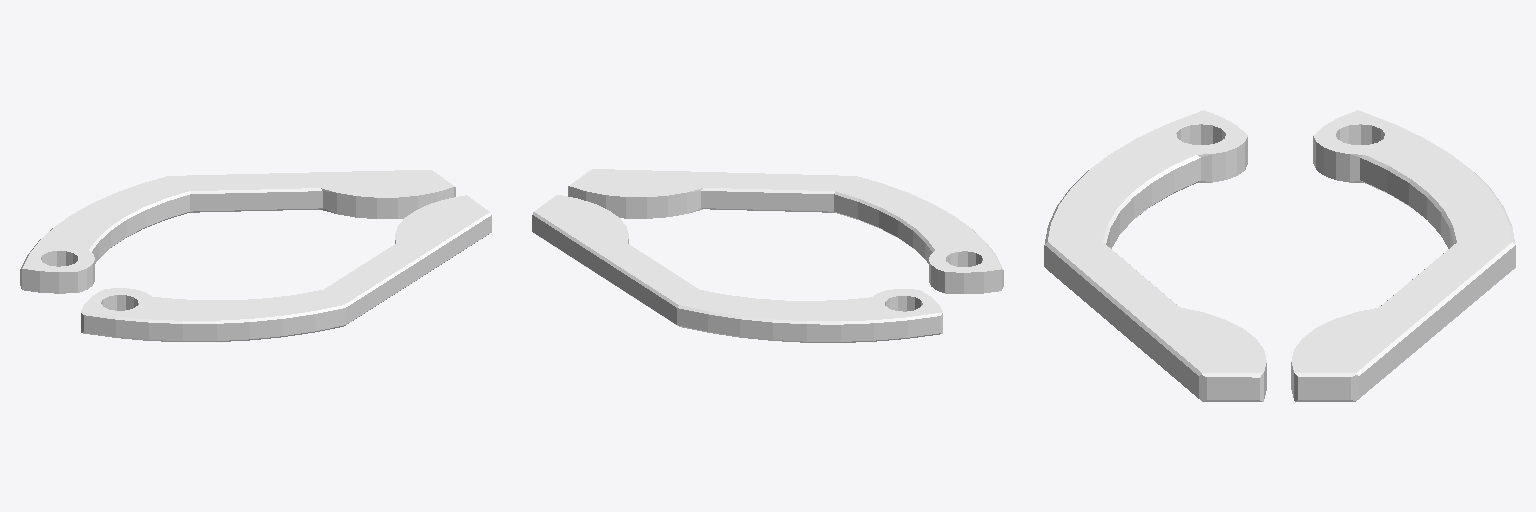
robot.urdf — BRAZO_ROBOT_URDF:
<?xml version="1.0" encoding="utf-8"?>
<!-- This URDF was automatically created by SolidWorks to URDF Exporter! Originally created by [author] ([email redacted]) 
     Commit Version: 1.6.0-4-g7f85cfe  Build Version: 1.6.7995.38578
     For more information, please see http://wiki.ros.org/sw_urdf_exporter -->
<robot
  name="BRAZO_ROBOT_URDF">
  <link
    name="eslabon base">
    <inertial>
      <origin
        xyz="-0.0088229 -6.9389E-18 0.026922"
        rpy="0 0 0" />
      <mass
        value="0.33529" />
      <inertia
        ixx="0.00030188"
        ixy="-2.3722E-20"
        ixz="1.5248E-05"
        iyy="0.00046509"
        iyz="-1.7862E-20"
        izz="0.00053687" />
    </inertial>
    <visual>
      <origin
        xyz="0 0 0"
        rpy="0 0 0" />
      <geometry>
        <mesh
          filename="package://BRAZO_ROBOT_URDF/meshes/eslabon base.STL" />
      </geometry>
      <material
        name="">
        <color
          rgba="1 1 1 1" />
      </material>
    </visual>
    <collision>
      <origin
        xyz="0 0 0"
        rpy="0 0 0" />
      <geometry>
        <mesh
          filename="package://BRAZO_ROBOT_URDF/meshes/eslabon base.STL" />
      </geometry>
    </collision>
  </link>
  <link
    name="ESLABON ROTACION">
    <inertial>
      <origin
        xyz="1.38777878078145E-17 0 0.0630288606936914"
        rpy="0 0 0" />
      <mass
        value="0.00792631563306555" />
      <inertia
        ixx="9.54333718723177E-07"
        ixy="-1.48793855574928E-23"
        ixz="3.26354663080921E-23"
        iyy="9.71075618241566E-07"
        iyz="-2.63461630643741E-23"
        izz="7.97669672938977E-07" />
    </inertial>
    <visual>
      <origin
        xyz="0 0 0"
        rpy="0 0 0" />
      <geometry>
        <mesh
          filename="package://BRAZO_ROBOT_URDF/meshes/ESLABON ROTACION.STL" />
      </geometry>
      <material
        name="">
        <color
          rgba="1 1 1 1" />
      </material>
    </visual>
    <collision>
      <origin
        xyz="0 0 0"
        rpy="0 0 0" />
      <geometry>
        <mesh
          filename="package://BRAZO_ROBOT_URDF/meshes/ESLABON ROTACION.STL" />
      </geometry>
    </collision>
  </link>
  <joint
    name="ESLABON ROTACION"
    type="revolute">
    <origin
      xyz="0 0 0"
      rpy="0 0 0" />
    <parent
      link="eslabon base" />
    <child
      link="ESLABON ROTACION" />
    <axis
      xyz="0 0 -1" />
    <limit
      lower="-1.5708"
      upper="1.5708"
      effort="0.18"
      velocity="10.472" />
    <dynamics
      damping="0"
      friction="0" />
  </joint>
  <link
    name="ESLABON DE BRAZO 1">
    <inertial>
      <origin
        xyz="-0.000966415503477563 -0.0190572854817526 0.00105821743021271"
        rpy="0 0 0" />
      <mass
        value="0.0485744385999758" />
      <inertia
        ixx="1.8593970179839E-05"
        ixy="-5.25312085428344E-07"
        ixz="-1.31826405070508E-07"
        iyy="3.2725311613632E-06"
        iyz="1.54876095792427E-06"
        izz="1.9702766411215E-05" />
    </inertial>
    <visual>
      <origin
        xyz="0 0 0"
        rpy="0 0 0" />
      <geometry>
        <mesh
          filename="package://BRAZO_ROBOT_URDF/meshes/ESLABON DE BRAZO 1.STL" />
      </geometry>
      <material
        name="">
        <color
          rgba="1 1 1 1" />
      </material>
    </visual>
    <collision>
      <origin
        xyz="0 0 0"
        rpy="0 0 0" />
      <geometry>
        <mesh
          filename="package://BRAZO_ROBOT_URDF/meshes/ESLABON DE BRAZO 1.STL" />
      </geometry>
    </collision>
  </link>
  <joint
    name="ESLABON DE BRAZO 1"
    type="revolute">
    <origin
      xyz="0 0 0.075"
      rpy="-1.5708 0 0" />
    <parent
      link="ESLABON ROTACION" />
    <child
      link="ESLABON DE BRAZO 1" />
    <axis
      xyz="0 0 -1" />
    <limit
      lower="-1.5708"
      upper="1.5708"
      effort="0.18"
      velocity="10.472" />
    <dynamics
      damping="0"
      friction="0" />
  </joint>
  <link
    name="ESLABON DE BRAZO 2">
    <inertial>
      <origin
        xyz="0.000301769617941816 0.0299293457414871 -0.000556617692094648"
        rpy="0 0 0" />
      <mass
        value="0.028486686920439" />
      <inertia
        ixx="1.51704938602305E-05"
        ixy="-1.96328794398074E-08"
        ixz="-5.85124985696709E-08"
        iyy="1.87208865570457E-06"
        iyz="-2.12186863467087E-07"
        izz="1.59205662534004E-05" />
    </inertial>
    <visual>
      <origin
        xyz="0 0 0"
        rpy="0 0 0" />
      <geometry>
        <mesh
          filename="package://BRAZO_ROBOT_URDF/meshes/ESLABON DE BRAZO 2.STL" />
      </geometry>
      <material
        name="">
        <color
          rgba="1 1 1 1" />
      </material>
    </visual>
    <collision>
      <origin
        xyz="0 0 0"
        rpy="0 0 0" />
      <geometry>
        <mesh
          filename="package://BRAZO_ROBOT_URDF/meshes/ESLABON DE BRAZO 2.STL" />
      </geometry>
    </collision>
  </link>
  <joint
    name="ESLABON DE BRAZO 2"
    type="revolute">
    <origin
      xyz="0 -0.06 0"
      rpy="0 0 -1.5708" />
    <parent
      link="ESLABON DE BRAZO 1" />
    <child
      link="ESLABON DE BRAZO 2" />
    <axis
      xyz="0 0 -1" />
    <limit
      lower="-1.5708"
      upper="1.5708"
      effort="0.18"
      velocity="10.472" />
    <dynamics
      damping="0"
      friction="0" />
  </joint>
  <link
    name="ESLABON BASE GRIPPER">
    <inertial>
      <origin
        xyz="-0.00104217230985984 3.44390048610879E-05 0.0812317135361134"
        rpy="0 0 0" />
      <mass
        value="0.00437816277547282" />
      <inertia
        ixx="3.85346965709011E-07"
        ixy="4.83674876889536E-10"
        ixz="5.56015541469149E-08"
        iyy="3.84305888855166E-07"
        iyz="-1.8373758114991E-09"
        izz="1.93040520057411E-07" />
    </inertial>
    <visual>
      <origin
        xyz="0 0 0"
        rpy="0 0 0" />
      <geometry>
        <mesh
          filename="package://BRAZO_ROBOT_URDF/meshes/ESLABON BASE GRIPPER.STL" />
      </geometry>
      <material
        name="">
        <color
          rgba="1 1 1 1" />
      </material>
    </visual>
    <collision>
      <origin
        xyz="0 0 0"
        rpy="0 0 0" />
      <geometry>
        <mesh
          filename="package://BRAZO_ROBOT_URDF/meshes/ESLABON BASE GRIPPER.STL" />
      </geometry>
    </collision>
  </link>
  <joint
    name="ESLABON BASE GRIPPER"
    type="revolute">
    <origin
      xyz="0 0 0"
      rpy="-1.5708 0 0" />
    <parent
      link="ESLABON DE BRAZO 2" />
    <child
      link="ESLABON BASE GRIPPER" />
    <axis
      xyz="0 0 -1" />
    <limit
      lower="-1.5708"
      upper="1.5708"
      effort="0.18"
      velocity="10.472" />
    <dynamics
      damping="0"
      friction="0" />
  </joint>
  <link
    name="GRIPPER IZQUIERDO">
    <inertial>
      <origin
        xyz="0.00240614947711461 -0.0127077067381982 -0.000750000000000417"
        rpy="0 0 0" />
      <mass
        value="0.000157968134836279" />
      <inertia
        ixx="1.21356317394437E-08"
        ixy="-1.37850376181E-09"
        ixz="-2.15336814443922E-22"
        iyy="1.15154867314015E-09"
        iyz="-3.860596359656E-22"
        izz="1.32287224011962E-08" />
    </inertial>
    <visual>
      <origin
        xyz="0 0 0"
        rpy="0 0 0" />
      <geometry>
        <mesh
          filename="package://BRAZO_ROBOT_URDF/meshes/GRIPPER IZQUIERDO.STL" />
      </geometry>
      <material
        name="">
        <color
          rgba="1 1 1 1" />
      </material>
    </visual>
    <collision>
      <origin
        xyz="0 0 0"
        rpy="0 0 0" />
      <geometry>
        <mesh
          filename="package://BRAZO_ROBOT_URDF/meshes/GRIPPER IZQUIERDO.STL" />
      </geometry>
    </collision>
  </link>
  <joint
    name="GRIPPER DERECHO"
    type="revolute">
    <origin
      xyz="0 -0.0036696 0.099465"
      rpy="-1.5708 0 -1.5708" />
    <parent
      link="ESLABON BASE GRIPPER" />
    <child
      link="GRIPPER IZQUIERDO" />
    <axis
      xyz="0 0 -1" />
    <limit
      lower="0"
      upper="1.5708"
      effort="0.18"
      velocity="10.472" />
    <dynamics
      damping="0"
      friction="0" />
  </joint>
  <link
    name="GRIPPER DERECHO">
    <inertial>
      <origin
        xyz="0.00248564370729545 -0.0126923969844406 0.000750000000000028"
        rpy="0 0 0" />
      <mass
        value="0.000157968134836293" />
      <inertia
        ixx="1.21524579984785E-08"
        ixy="-1.30964440647263E-09"
        ixz="-1.18565610904285E-22"
        iyy="1.13472241410606E-09"
        iyz="6.141240697254E-23"
        izz="1.32287224011969E-08" />
    </inertial>
    <visual>
      <origin
        xyz="0 0 0"
        rpy="0 0 0" />
      <geometry>
        <mesh
          filename="package://BRAZO_ROBOT_URDF/meshes/GRIPPER DERECHO.STL" />
      </geometry>
      <material
        name="">
        <color
          rgba="1 1 1 1" />
      </material>
    </visual>
    <collision>
      <origin
        xyz="0 0 0"
        rpy="0 0 0" />
      <geometry>
        <mesh
          filename="package://BRAZO_ROBOT_URDF/meshes/GRIPPER DERECHO.STL" />
      </geometry>
    </collision>
  </link>
  <joint
    name="GRIPPER DERECHO"
    type="revolute">
    <origin
      xyz="0 0.0039504 0.099465"
      rpy="-1.5708 0 1.5708" />
    <parent
      link="ESLABON BASE GRIPPER" />
    <child
      link="GRIPPER DERECHO" />
    <axis
      xyz="0 0 1" />
    <limit
      lower="0"
      upper="1.5708"
      effort="0.18"
      velocity="10.472" />
    <dynamics
      damping="0"
      friction="0" />
  </joint>
</robot>

--- Facts derived from the render (not from the file) ---
The picture shows the robot from 3 angles, left to right: view 1: azimuth 30°, elevation 25°; view 2: azimuth 150°, elevation 25°; view 3: azimuth 270°, elevation 25°; orthographic projection.
Model BRAZO_ROBOT_URDF with 7 links and 6 joints (6 revolute), rooted at eslabon base, posed all joints at 0.
Visible links, largest first — view 1: GRIPPER IZQUIERDO, GRIPPER DERECHO; view 2: GRIPPER DERECHO, GRIPPER IZQUIERDO; view 3: GRIPPER IZQUIERDO, GRIPPER DERECHO.
Link boxes in pixels (x1,y1,x2,y2): GRIPPER IZQUIERDO: [20, 170, 455, 293]; GRIPPER DERECHO: [81, 195, 491, 341]; GRIPPER DERECHO: [568, 169, 1003, 293]; GRIPPER IZQUIERDO: [532, 195, 942, 342]; GRIPPER IZQUIERDO: [1291, 110, 1515, 401]; GRIPPER DERECHO: [1044, 110, 1266, 401].
Bounding box of the posed robot: 0.0299 × 0.0225 × 0.0015 m (x, y, z).
Meshes: 7 distinct files referenced, 2 mesh visuals loaded (2 binary STL); not drawn: 5 (reference not matched to a file when rendering).